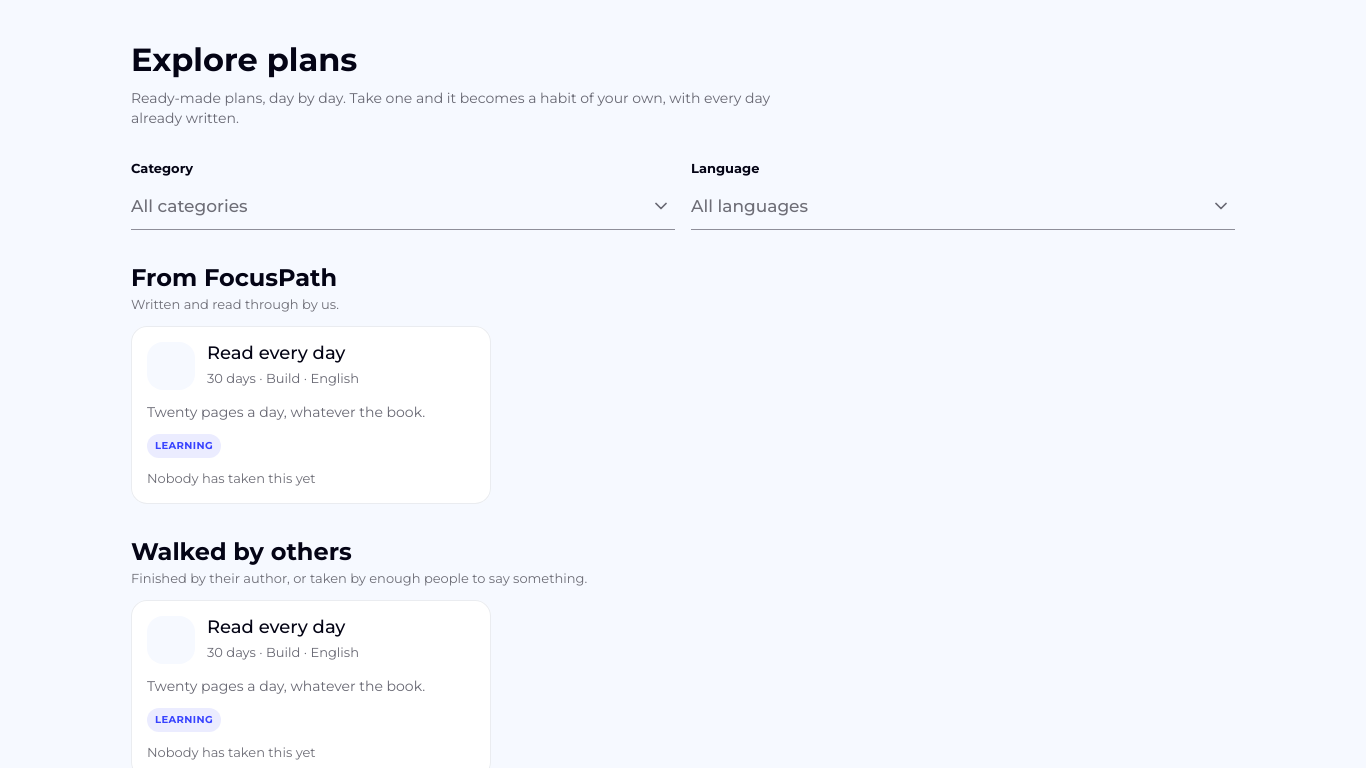
ExplorePage › filters › offers a way out of an empty filtered view
Select "Money" in the dropdown labelled "Category" at [403, 206], box [131,182,675,230]
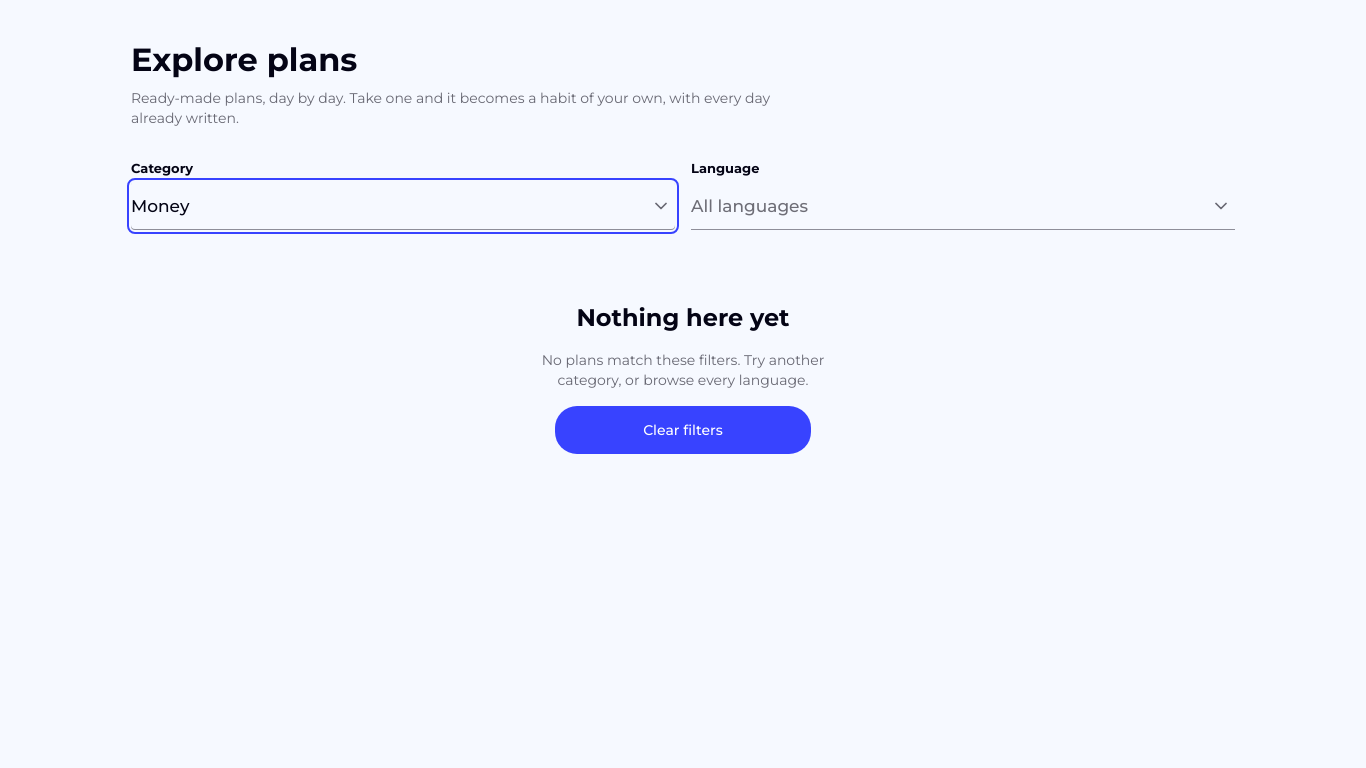
Result: the heading "Nothing here yet" is shown at [576,302,790,334]
Result: the button "Clear filters" is shown at [555,406,811,454]
